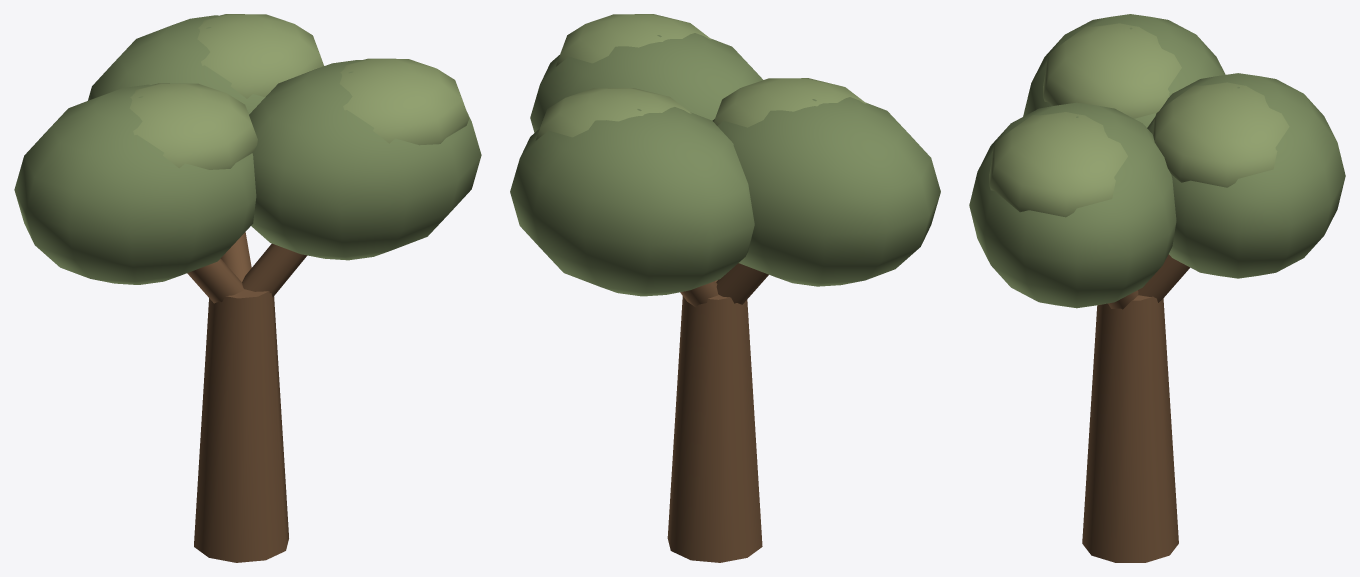
The model's file is olive_tree.glb.
3 renders of one model, left to right at view 1: azimuth 30°, elevation 25°; view 2: azimuth 150°, elevation 25°; view 3: azimuth 270°, elevation 25°, orthographic.
Visible parts, largest first — view 1: batch_olive_tree_1, batch_olive_tree_0, batch_olive_tree_2; view 2: batch_olive_tree_1, batch_olive_tree_0, batch_olive_tree_2; view 3: batch_olive_tree_1, batch_olive_tree_2, batch_olive_tree_0.
Part boxes in pixels (x1,y1,x2,y2): batch_olive_tree_1: (14, 15, 481, 284); batch_olive_tree_0: (187, 232, 307, 562); batch_olive_tree_2: (129, 14, 469, 169); batch_olive_tree_1: (510, 33, 940, 296); batch_olive_tree_0: (667, 263, 768, 562); batch_olive_tree_2: (535, 14, 866, 140); batch_olive_tree_1: (969, 14, 1345, 308); batch_olive_tree_2: (989, 23, 1289, 217); batch_olive_tree_0: (1082, 254, 1190, 562).
Bounding box in the file's own units: 1.78 × 1.92 × 1.4.
